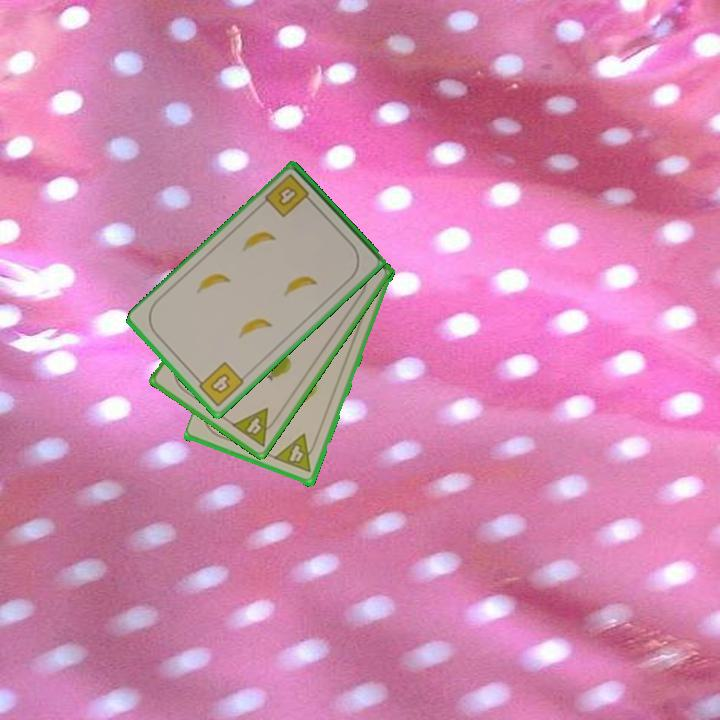4b: (192, 358, 247, 410), (261, 170, 316, 221)
4p: (228, 404, 282, 450), (271, 431, 320, 476)
